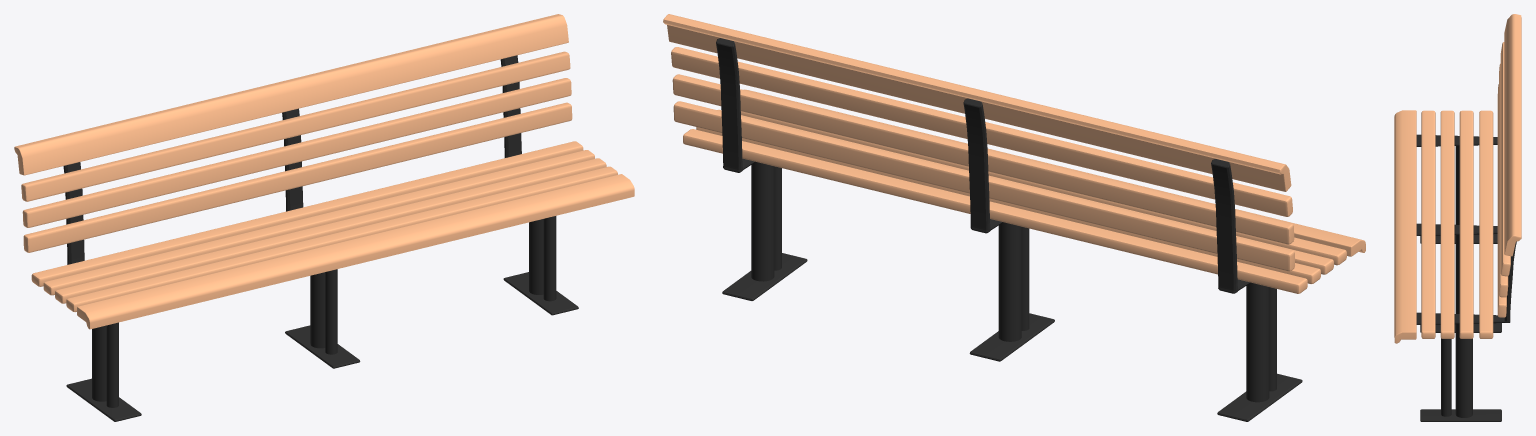
3 views of the same model, side by side, from view 1: azimuth 30°, elevation 25°; view 2: azimuth 150°, elevation 25°; view 3: azimuth 270°, elevation 25° (orthographic). The views are drawn at different scales.
Parts seen in each view (by area): view 1: chair_combined_uvs_result; view 2: chair_combined_uvs_result; view 3: chair_combined_uvs_result.
Boxes of the visible parts, x1,y1,x2,y2 form: chair_combined_uvs_result: (14, 14, 634, 421); chair_combined_uvs_result: (663, 14, 1365, 421); chair_combined_uvs_result: (1394, 14, 1521, 421).
Size of the model in its own units: 24.95 by 10.63 by 6.03.
2 materials, 2 textured.
